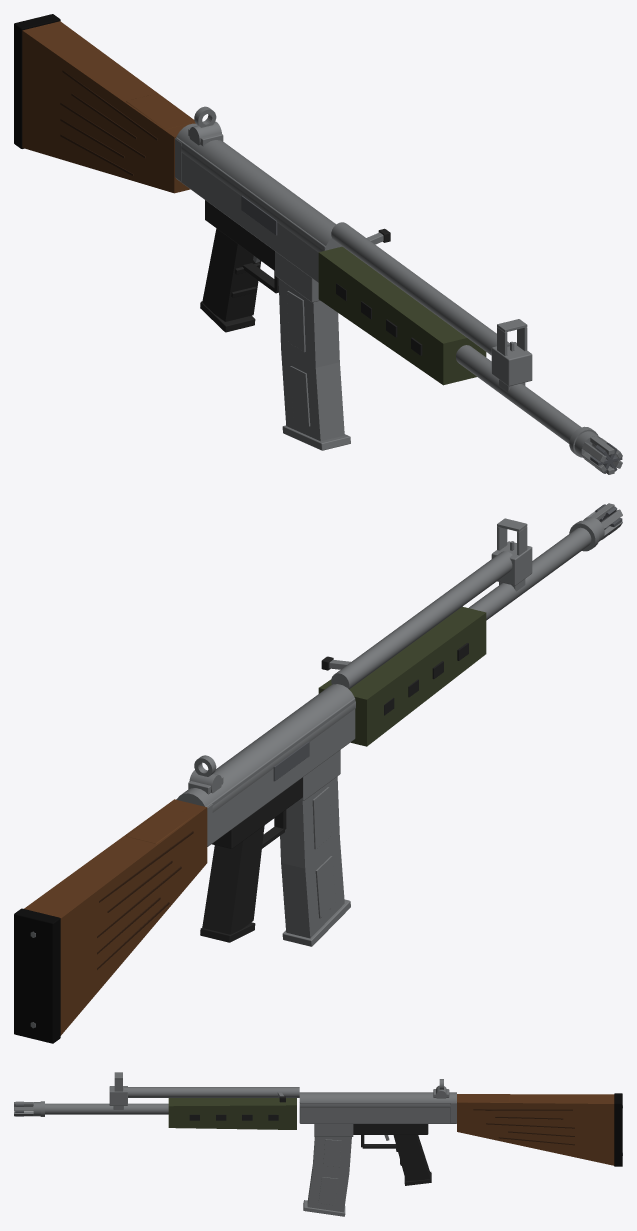
3 views of the same model, one above another, from view 1: azimuth 30°, elevation 25°; view 2: azimuth 150°, elevation 25°; view 3: azimuth 270°, elevation 25° (orthographic). The views are drawn at different scales.
Parts seen in each view (by area): view 1: Body, Magazine; view 2: Body, Magazine; view 3: Body, Magazine.
Boxes of the visible parts, left/top/right/bottom form: Body: left=14, top=14, right=622, bottom=474; Magazine: left=278, top=278, right=350, bottom=450; Body: left=14, top=503, right=622, bottom=1043; Magazine: left=280, top=776, right=350, bottom=946; Body: left=14, top=1072, right=622, bottom=1185; Magazine: left=303, top=1137, right=351, bottom=1216.
Bounding box in the file's own units: 0.065 × 0.2909 × 1.16.
